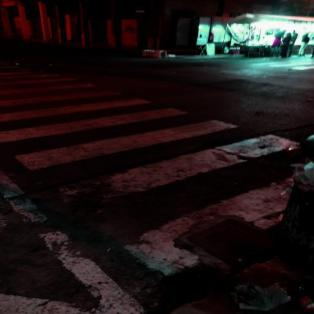Paso de Cebra: (2, 106, 246, 174)
